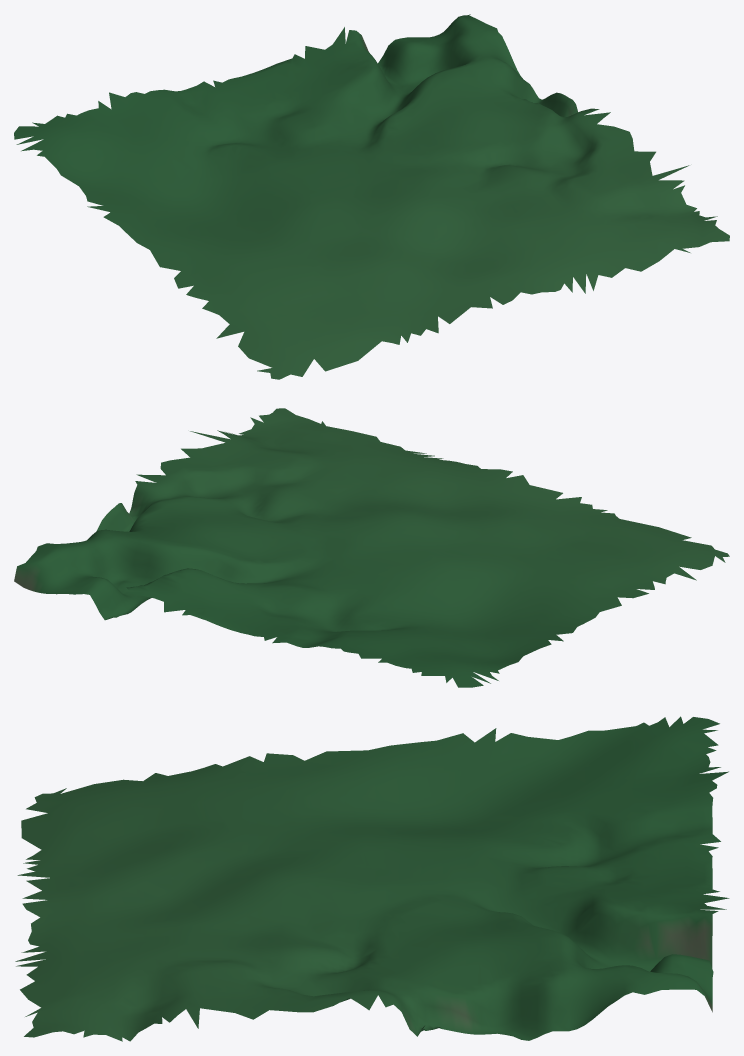
Rendered from payo_land_x0_y6.glb.
The picture shows the model from 3 angles, top to bottom: view 1: azimuth 30°, elevation 25°; view 2: azimuth 150°, elevation 25°; view 3: azimuth 270°, elevation 25°; orthographic projection. The views are drawn at different scales.
Parts seen in each view (by area): view 1: payo_land_x0_y6; view 2: payo_land_x0_y6; view 3: payo_land_x0_y6.
Part boxes in pixels (x1,y1,x2,y2): payo_land_x0_y6: [14, 14, 729, 379]; payo_land_x0_y6: [14, 408, 729, 687]; payo_land_x0_y6: [15, 716, 729, 1041].
Size of the model in its own units: 277 by 40.79 by 269.
